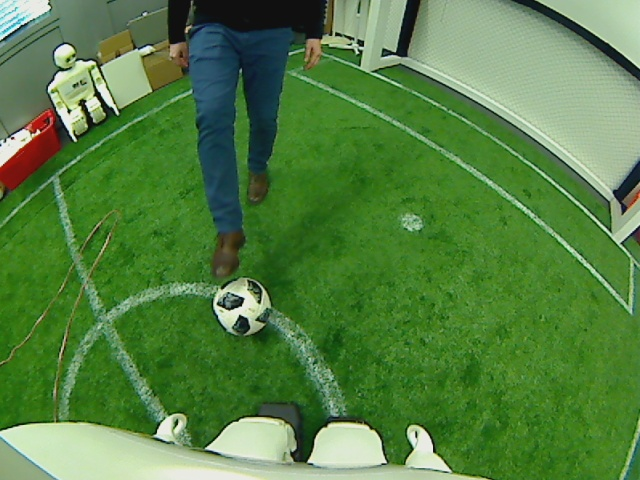ball: (211, 277, 271, 339)
